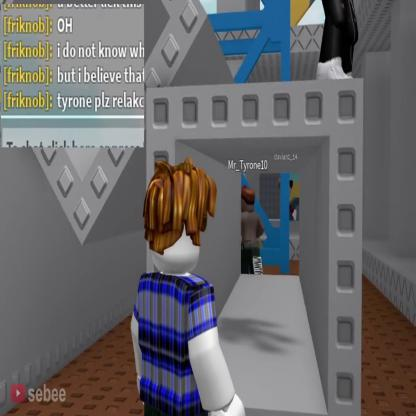Roblox-Avatar: (131, 158, 247, 416), (242, 186, 266, 275)
